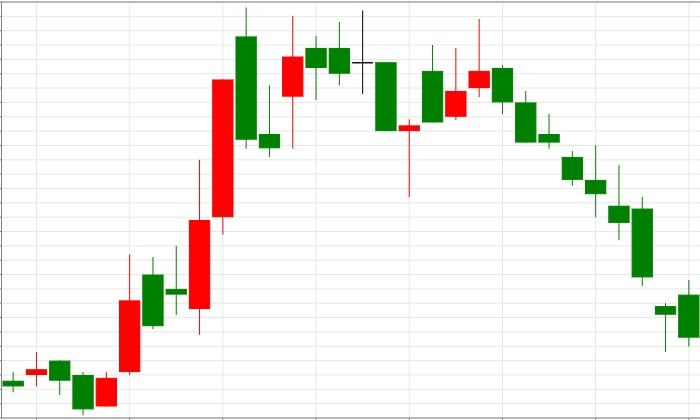shooting_star_fall: (399, 19, 490, 196)
